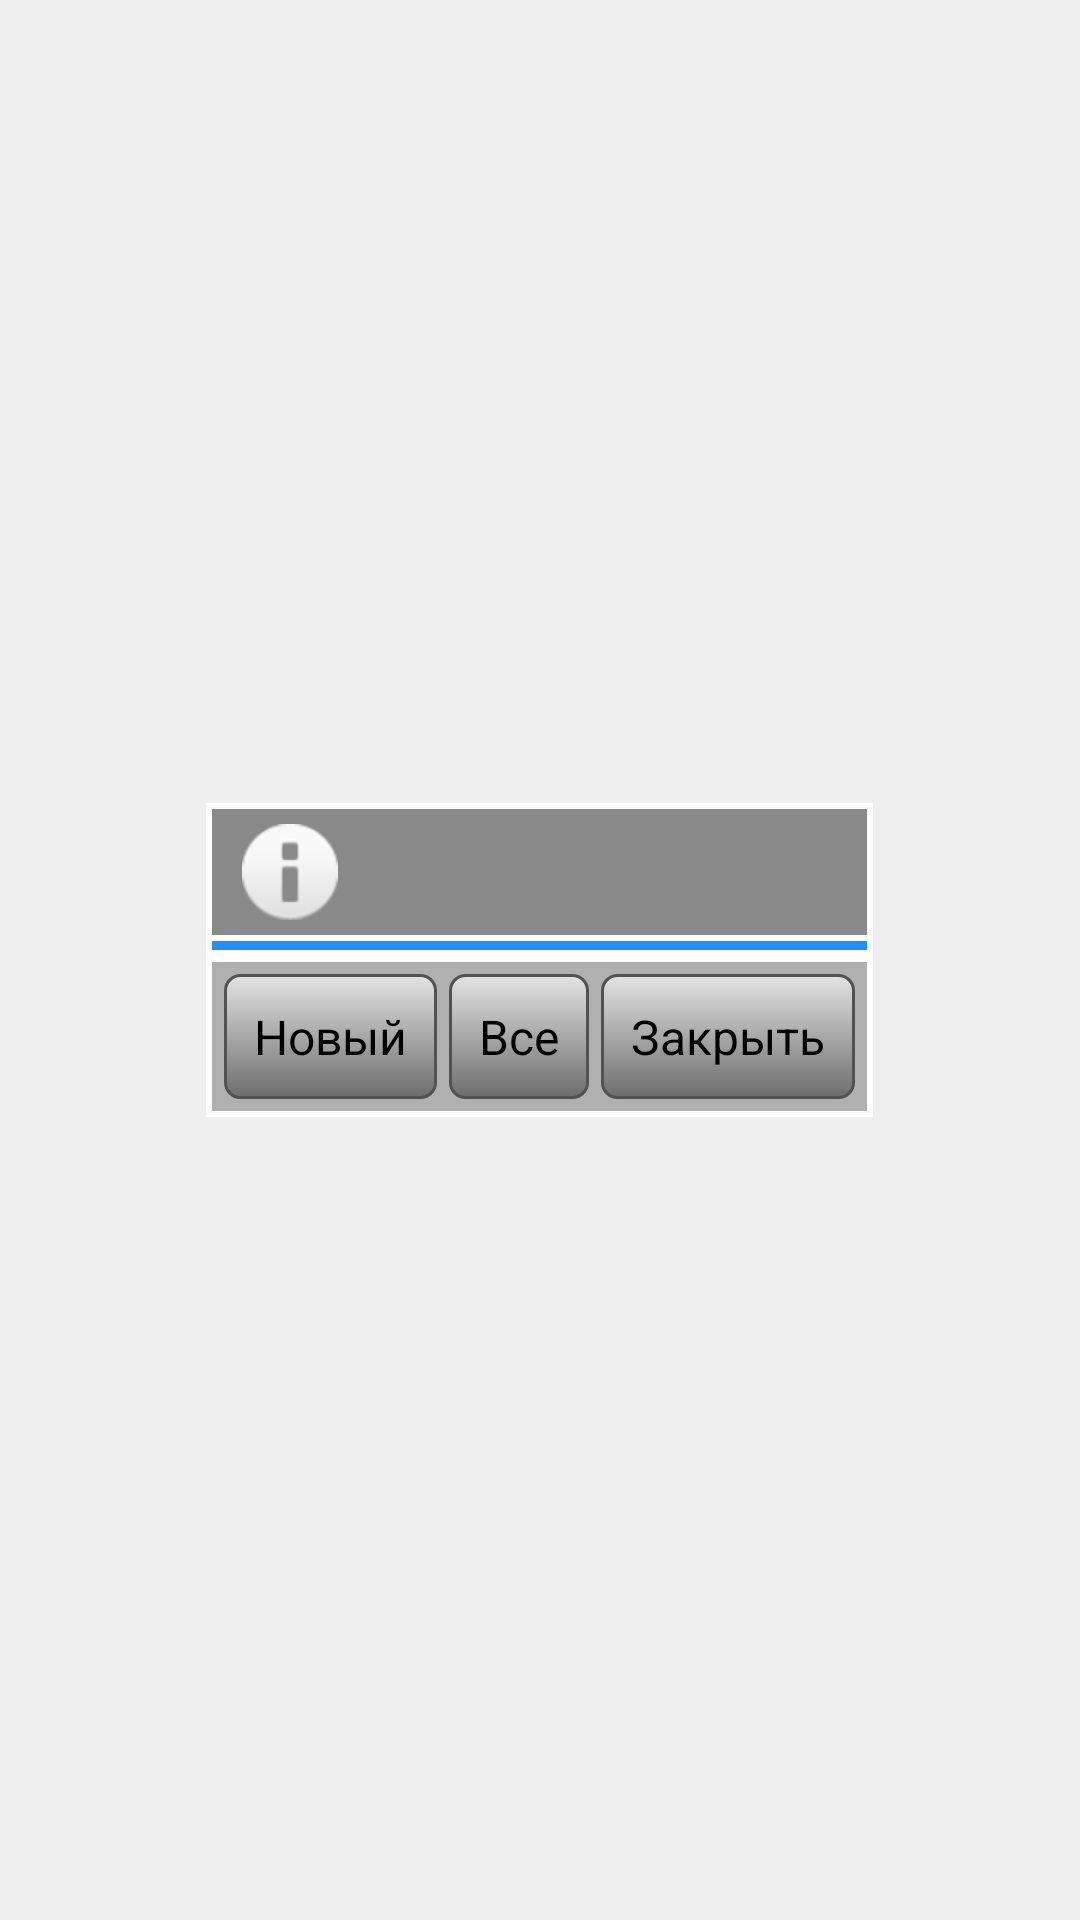

Named icons in this screenshot (1080w x 1920h) and their bounding boxes, (x1, y1, x2, y2):
info: (242, 824, 338, 920)
